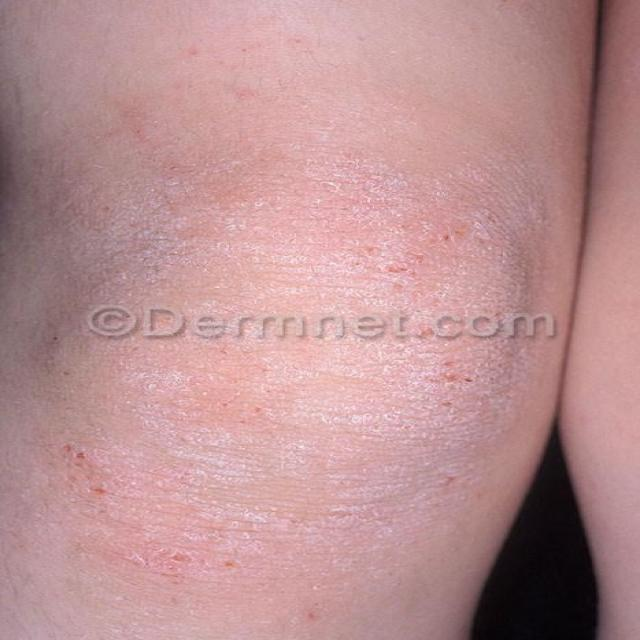Eczema: (43, 91, 530, 588)
